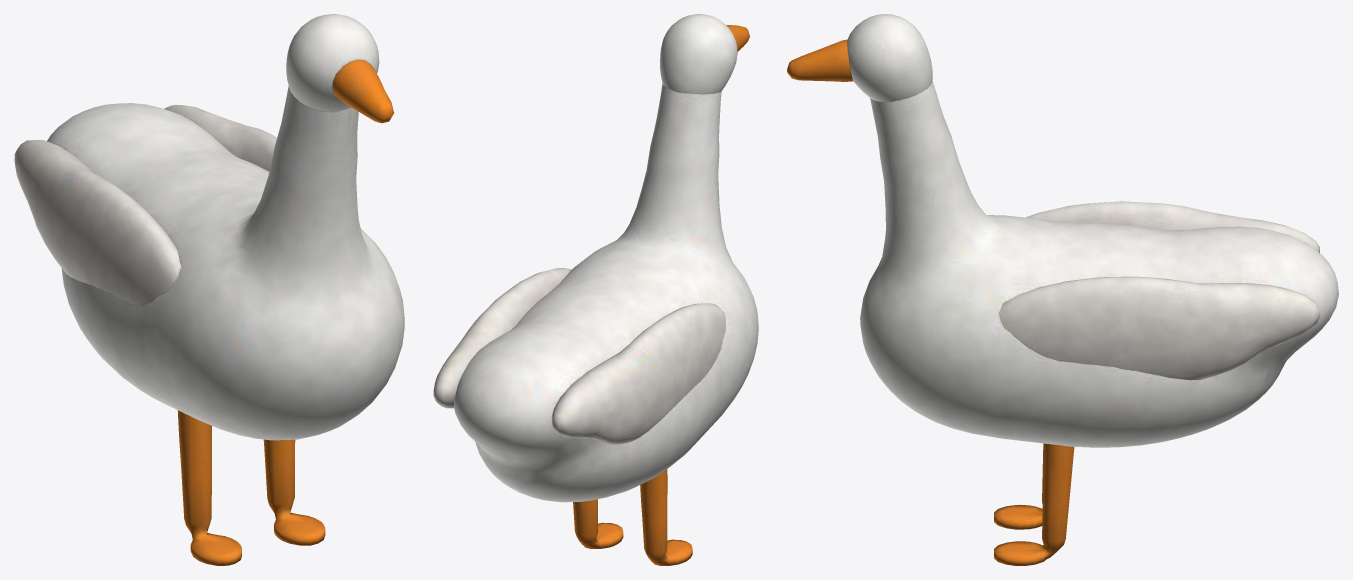
File: animal_goose.glb
3 views of the same model, side by side, from view 1: azimuth 30°, elevation 25°; view 2: azimuth 150°, elevation 25°; view 3: azimuth 270°, elevation 25° (orthographic). The views are drawn at different scales.
Visible parts, largest first — view 1: animal_goose, head, leg0, leg1; view 2: animal_goose, head, leg0, leg1; view 3: animal_goose, head, leg1, leg0.
Boxes of the visible parts, x1=… form: animal_goose: x1=14, y1=86, x2=404, y2=440; head: x1=286, y1=14, x2=393, y2=123; leg0: x1=177, y1=410, x2=241, y2=565; leg1: x1=263, y1=439, x2=325, y2=545; animal_goose: x1=433, y1=83, x2=758, y2=502; head: x1=660, y1=14, x2=749, y2=94; leg0: x1=640, y1=469, x2=692, y2=565; leg1: x1=573, y1=499, x2=623, y2=548; animal_goose: x1=860, y1=80, x2=1338, y2=447; head: x1=787, y1=14, x2=932, y2=102; leg1: x1=994, y1=443, x2=1074, y2=565; leg0: x1=994, y1=443, x2=1044, y2=529.
Size of the model in its own units: 0.1611 by 0.4021 by 0.3846.
1 material, 1 textured.
